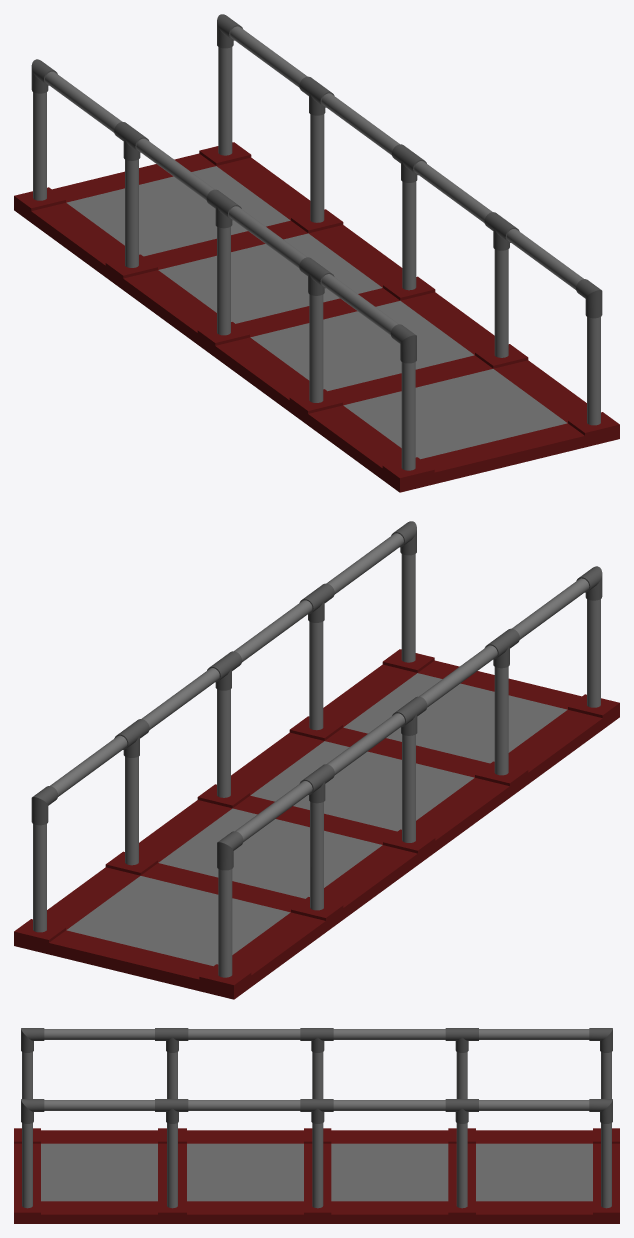
Rendered from Walkway.fbx.
The picture shows the model from 3 angles, top to bottom: view 1: azimuth 30°, elevation 25°; view 2: azimuth 150°, elevation 25°; view 3: azimuth 270°, elevation 25°; orthographic projection. The views are drawn at different scales.
Parts seen in each view (by area): view 1: Walkway; view 2: Walkway; view 3: Walkway.
Boxes of the visible parts, <box> form: Walkway: <box>14,14,619,492</box>; Walkway: <box>14,521,619,999</box>; Walkway: <box>14,1028,619,1223</box>.
Size of the model in its own units: 198 by 129 by 601.
Materials: 1 (1 with a texture image).
